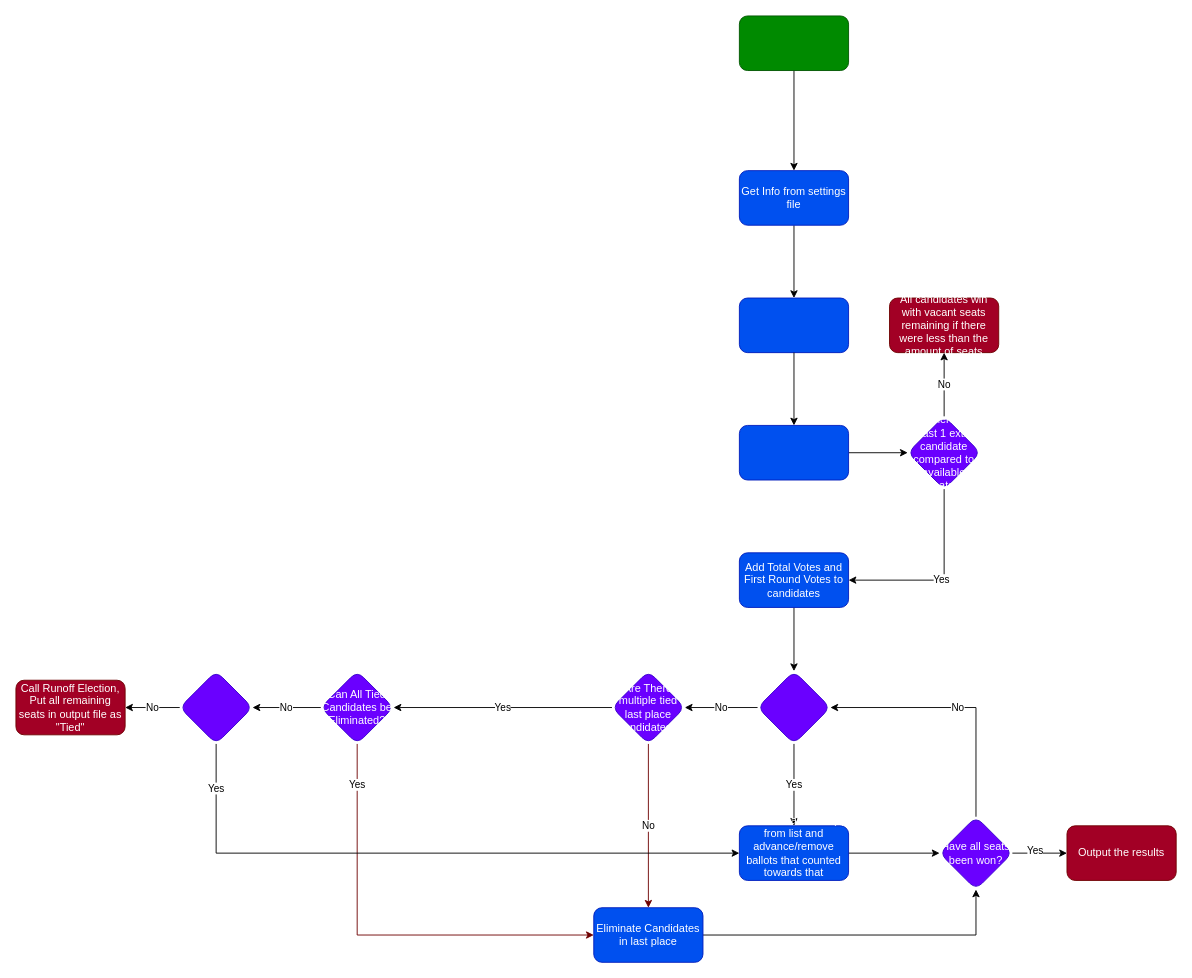
This 1192x978 diagram has some shape labels left out. The shapes that lost their labels are listed below. From the top down, each one's centre as x and y in pixels, then its label:
the point at 793,43: Start Program
the point at 793,325: Get list of Available Candidates from candidates file
the point at 793,452: Get Ballots from ballots file
the point at 216,707: Can All Tied Candidates Win?
the point at 793,707: Has A Candidate won?
